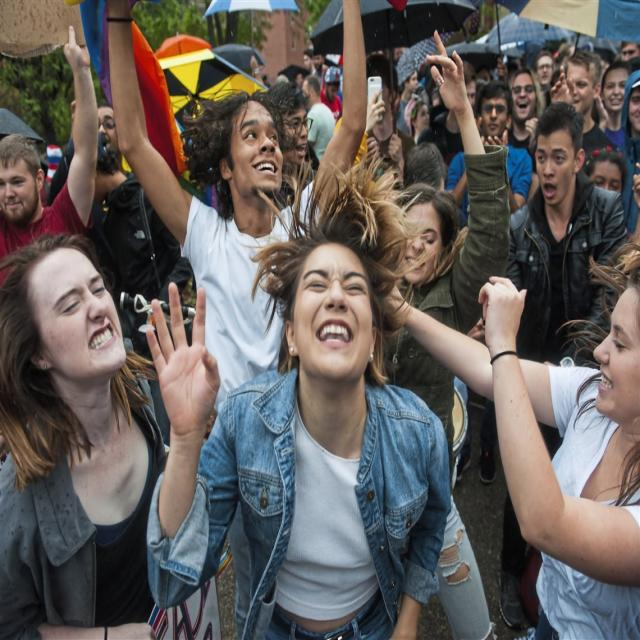body: (138, 156, 456, 639), (101, 0, 378, 420), (378, 240, 640, 639), (389, 28, 511, 640), (0, 233, 172, 640), (496, 100, 628, 630), (444, 79, 535, 486), (0, 21, 101, 282), (415, 58, 484, 190), (260, 80, 318, 213), (364, 51, 419, 186), (575, 145, 640, 256), (560, 47, 618, 161), (616, 68, 640, 242), (507, 65, 546, 157), (594, 60, 632, 151), (300, 75, 337, 166), (96, 103, 132, 179), (392, 59, 423, 142), (402, 140, 449, 192), (319, 65, 343, 126), (534, 50, 556, 112), (404, 93, 430, 145), (299, 42, 324, 73), (587, 54, 605, 94), (480, 57, 514, 78), (256, 65, 282, 87), (622, 35, 640, 60), (392, 42, 407, 59), (555, 50, 570, 63)
